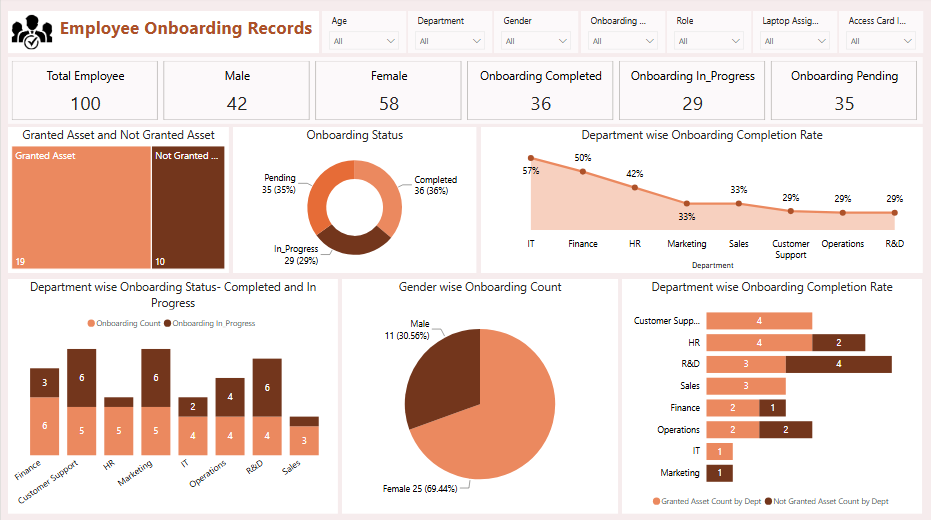

The dashboard page shown, as its layout file describes it:
{"tool":"powerbi","page":{"name":"Page 1","canvas":[1280,720],"ordinal":0},"visuals":[{"type":"cardVisual","fields":{"Data":["Employee_Onboarding_Records.Total Employee","Employee_Onboarding_Records.Male","Employee_Onboarding_Records.Female","Employee_Onboarding_Records.Onboarding Count","Employee_Onboarding_Records.Onboarding In_Process","Employee_Onboarding_Records.Onboarding Pending"]},"box":[9,82.4,1259.1,92.2],"z":0},{"type":"slicer","fields":{"Values":["Employee_Onboarding_Records.Age"]},"box":[441.5,18.8,115.7,58.4],"z":1000,"group":"g1"},{"type":"treemap","fields":{"Values":["Employee_Onboarding_Records.Granted Asset","Employee_Onboarding_Records.Not Granted Asset"]},"box":[9,179.1,303.6,200.6],"z":1000},{"type":"slicer","fields":{"Values":["Employee_Onboarding_Records.Department"]},"box":[560.2,18.8,115.7,58.4],"z":2000,"group":"g1"},{"type":"columnChart","title":"Department wise Onboarding Status- Completed and In Progress","fields":{"Category":["Employee_Onboarding_Records.Department"],"Y":["Employee_Onboarding_Records.Onboarding Count","Employee_Onboarding_Records.Onboarding In_Progress"]},"box":[9,387.8,454,323.3],"z":2000},{"type":"slicer","fields":{"Values":["Employee_Onboarding_Records.Gender"]},"box":[678.8,18.8,115.7,58.4],"z":3000,"group":"g1"},{"type":"lineChart","title":"Department wise Onboarding Completion Rate","fields":{"Category":["Employee_Onboarding_Records.Department"],"Y":["Employee_Onboarding_Records.Onboarding Completion Rate"]},"box":[660.9,179.1,608.1,200.6],"z":3000},{"type":"slicer","fields":{"Values":["Employee_Onboarding_Records.OnboardingStatus"]},"box":[797.5,18.8,115.7,58.4],"z":4000,"group":"g1"},{"type":"barChart","title":"Department wise Onboarding Completion Rate","fields":{"Category":["Employee_Onboarding_Records.Department"],"Y":["Employee_Onboarding_Records.Granted Asset Count by Dept","Employee_Onboarding_Records.Not Granted Asset Count by Dept"]},"box":[855.2,387.8,412.8,323.3],"z":4000},{"type":"slicer","fields":{"Values":["Employee_Onboarding_Records.Role"]},"box":[916.2,18.8,115.7,58.4],"z":5000,"group":"g1"},{"type":"donutChart","title":"Onboarding Status","fields":{"Y":["Employee_Onboarding_Records.Onboarding Count","Employee_Onboarding_Records.Onboarding In_Progress","Employee_Onboarding_Records.Onboarding Pending"]},"box":[318.8,179.1,334.9,200.6],"z":5000},{"type":"group","id":"g1","title":"Group 1","box":[441.5,18.8,826.6,58.2],"z":6000},{"type":"slicer","fields":{"Values":["Employee_Onboarding_Records.LaptopAssigned"]},"box":[1034.8,18.8,115.7,58.4],"z":6000,"group":"g1"},{"type":"textbox","box":[75.7,19.3,362,57.8],"z":7000},{"type":"image","box":[9.6,19.3,66.1,57.8],"z":8000},{"type":"pieChart","title":"Gender wise Onboarding Count","fields":{"Category":["Employee_Onboarding_Records.Gender"],"Y":["Employee_Onboarding_Records.Onboarding Count"]},"box":[469.3,388.1,379.9,323.4],"z":9000},{"type":"slicer","fields":{"Values":["Employee_Onboarding_Records.AccessCardIssued"]},"box":[1152.5,18.8,115.7,58.4],"z":10000,"group":"g1"}]}

Visuals, with their boxes in screenshot pixels (x1, y1, x2, y2), scaled from the page's 1280x720 canvas onto the 931x520 screenshot:
cardVisual - Employee_Onboarding_Records.Total Employee x Employee_Onboarding_Records.Male: (7, 60, 922, 126)
slicer - Employee_Onboarding_Records.Age: (321, 14, 405, 56)
treemap - Employee_Onboarding_Records.Granted Asset x Employee_Onboarding_Records.Not Granted Asset: (7, 129, 227, 274)
slicer - Employee_Onboarding_Records.Department: (407, 14, 492, 56)
"Department wise Onboarding Status- Completed and In Progress" columnChart: (7, 280, 337, 514)
slicer - Employee_Onboarding_Records.Gender: (494, 14, 578, 56)
"Department wise Onboarding Completion Rate" lineChart: (481, 129, 923, 274)
slicer - Employee_Onboarding_Records.OnboardingStatus: (580, 14, 664, 56)
"Department wise Onboarding Completion Rate" barChart: (622, 280, 922, 514)
slicer - Employee_Onboarding_Records.Role: (666, 14, 751, 56)
"Onboarding Status" donutChart: (232, 129, 475, 274)
"Group 1" group: (321, 14, 922, 56)
slicer - Employee_Onboarding_Records.LaptopAssigned: (753, 14, 837, 56)
textbox: (55, 14, 318, 56)
image: (7, 14, 55, 56)
"Gender wise Onboarding Count" pieChart: (341, 280, 618, 514)
slicer - Employee_Onboarding_Records.AccessCardIssued: (838, 14, 922, 56)
